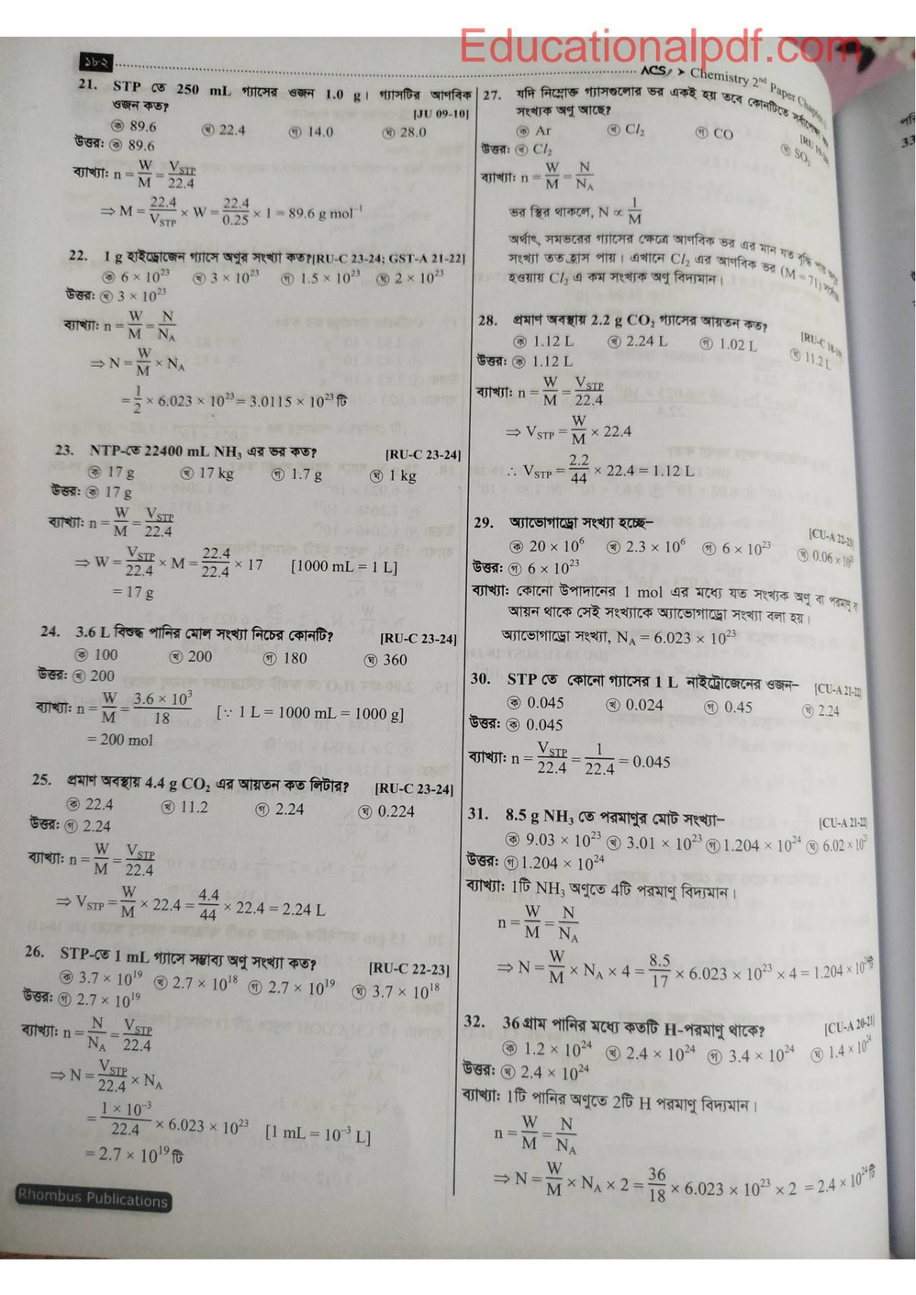question: (479, 78, 848, 171), (474, 306, 862, 384), (69, 74, 475, 141), (19, 942, 456, 999), (459, 1009, 884, 1063), (26, 768, 460, 819), (464, 801, 871, 852), (35, 618, 463, 666), (467, 667, 869, 716), (46, 440, 467, 485), (470, 511, 875, 557), (61, 244, 472, 289)
